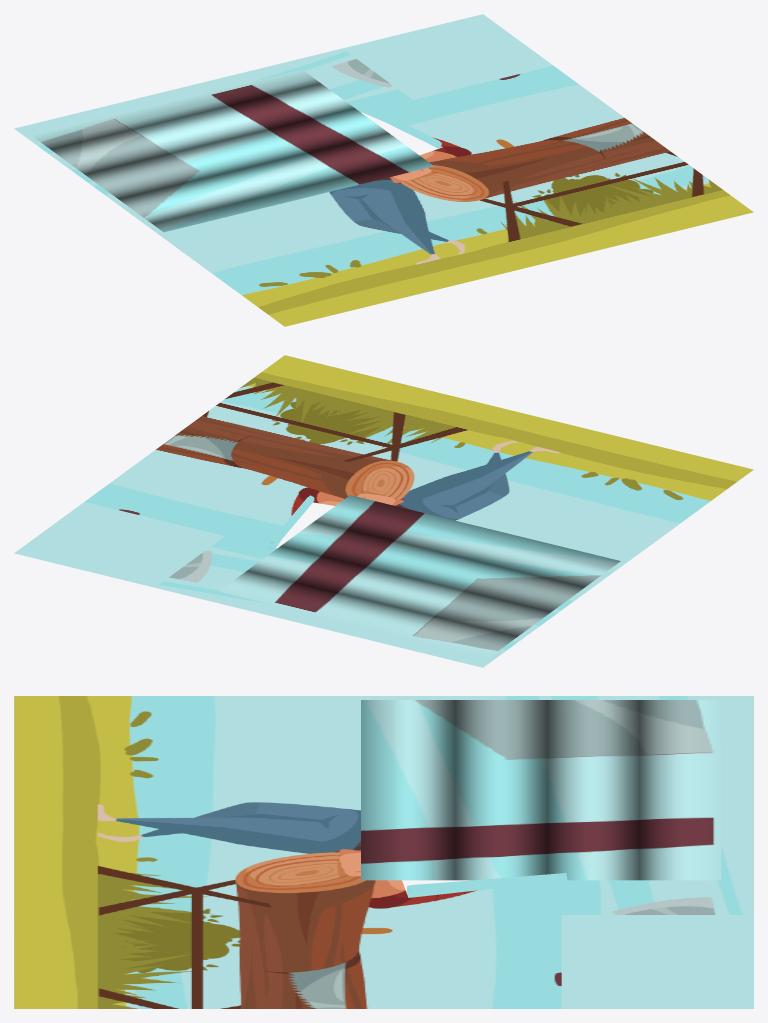
The picture shows the model from 3 angles, top to bottom: view 1: azimuth 30°, elevation 25°; view 2: azimuth 150°, elevation 25°; view 3: azimuth 270°, elevation 25°; orthographic projection. The views are drawn at different scales.
Parts seen in each view (by area): view 1: mesh, board, stick; view 2: mesh, board, stick; view 3: mesh, board, stick.
Part boxes in pixels (left/top/right/bottom): mesh: left=14, top=14, right=753, bottom=326; board: left=32, top=70, right=433, bottom=232; stick: left=360, top=104, right=442, bottom=148; mesh: left=14, top=355, right=753, bottom=667; board: left=219, top=495, right=620, bottom=657; stick: left=268, top=495, right=314, bottom=548; mesh: left=14, top=696, right=753, bottom=1008; board: left=361, top=700, right=721, bottom=880; stick: left=406, top=873, right=567, bottom=897.
Bounding box in the file's own units: 2400 × 33.94 × 2400.
